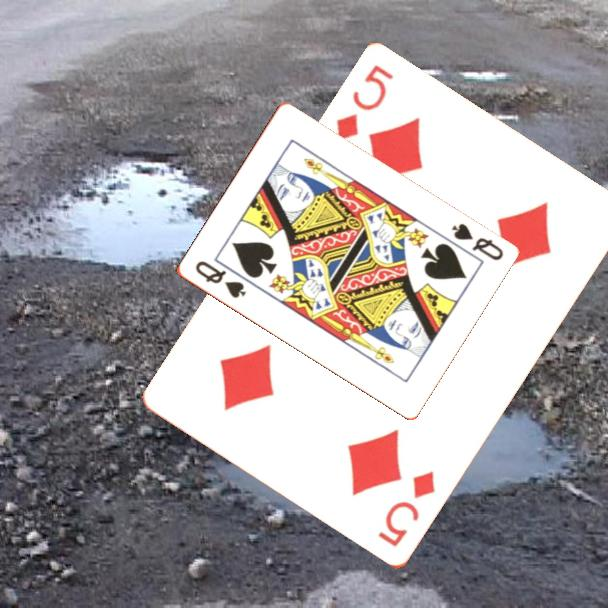d05: (332, 61, 397, 145), (374, 468, 438, 551)
s12: (447, 220, 506, 264), (191, 257, 249, 301)
